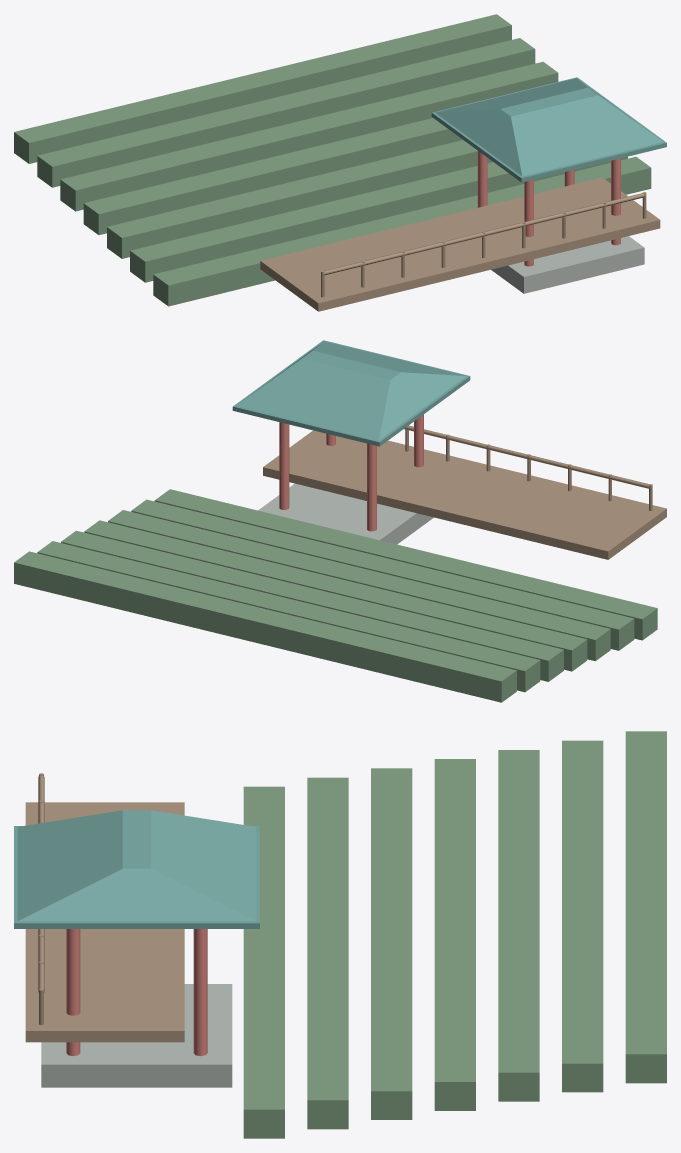
File: tea.glb
3 views of the same model, one above another, from view 1: azimuth 30°, elevation 25°; view 2: azimuth 150°, elevation 25°; view 3: azimuth 270°, elevation 25° (orthographic). The views are drawn at different scales.
Parts seen in each view (by area): view 1: tea; view 2: tea; view 3: tea.
Boxes of the visible parts, bbox=[...] form: tea: bbox=[14, 14, 666, 311]; tea: bbox=[14, 340, 666, 702]; tea: bbox=[14, 731, 666, 1138].
Bounding box in the file's own units: 24 × 7.2 × 20.51.
